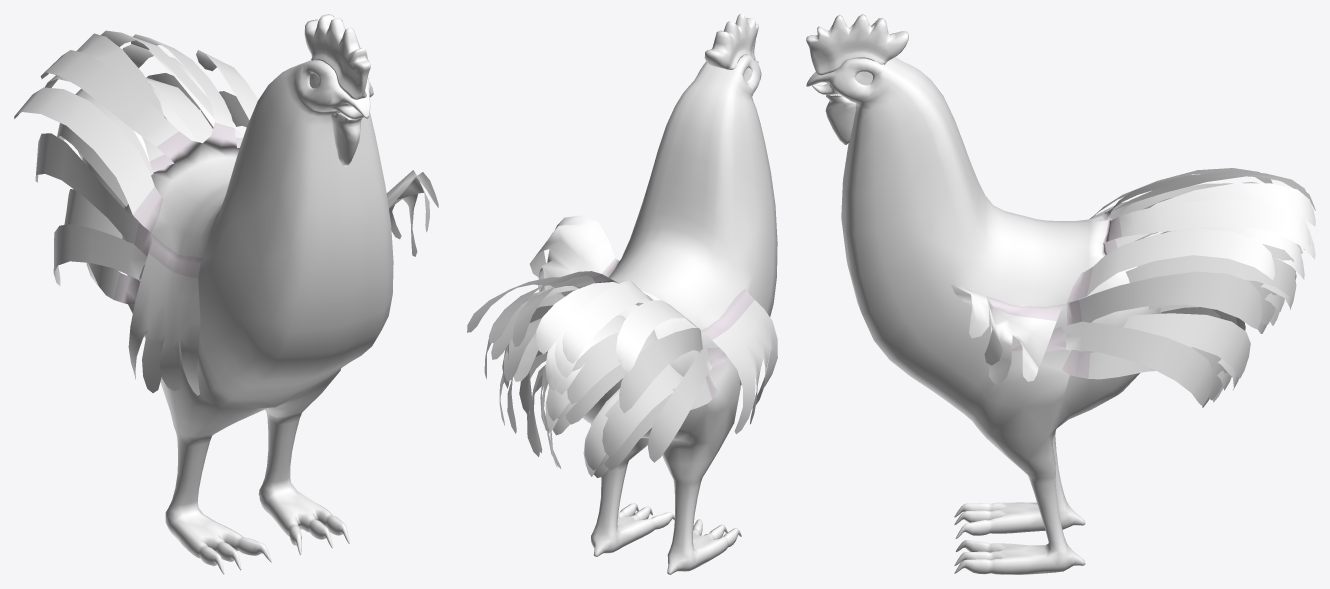
Rendered from xchicken2.fbx.
3 views of the same model, side by side, from view 1: azimuth 30°, elevation 25°; view 2: azimuth 150°, elevation 25°; view 3: azimuth 270°, elevation 25° (orthographic). The views are drawn at different scales.
Visible parts, largest first — view 1: Cube, Cube_001, Cube_002; view 2: Cube, Cube_001; view 3: Cube, Cube_001, Cube_002.
Part boxes in pixels (box(x1,y1,x2,y2)): Cube: box(14, 30, 438, 574); Cube_001: box(304, 14, 370, 99); Cube_002: box(331, 112, 361, 166); Cube: box(467, 54, 777, 574); Cube_001: box(704, 14, 758, 69); Cube: box(806, 57, 1315, 574); Cube_001: box(806, 14, 908, 75); Cube_002: box(825, 94, 856, 144).
Size of the model in its own units: 4.41 by 8.61 by 7.46.
Materials: 7 (6 with a texture image).
